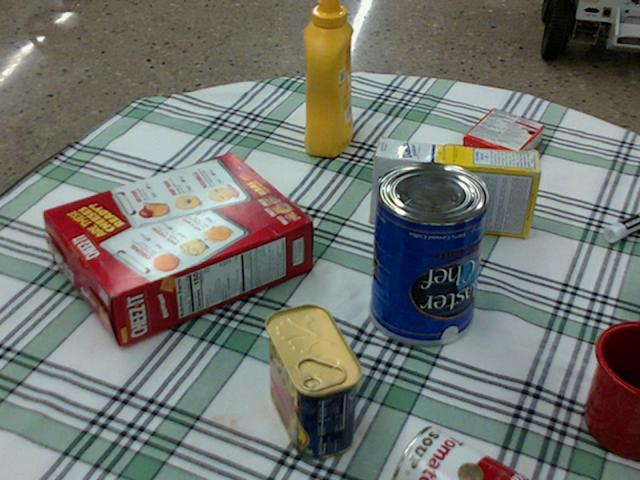cracker_box: (43, 154, 309, 345)
gelatin_box: (461, 108, 543, 171)
large_marker: (602, 212, 639, 241)
master_chef_can: (369, 161, 491, 344)
mug: (583, 320, 639, 459)
mustard_bottle: (303, 0, 352, 156)
potted_meat_can: (265, 304, 362, 458)
sugar_box: (369, 139, 540, 238)
tomato_soup_can: (393, 426, 527, 479)
